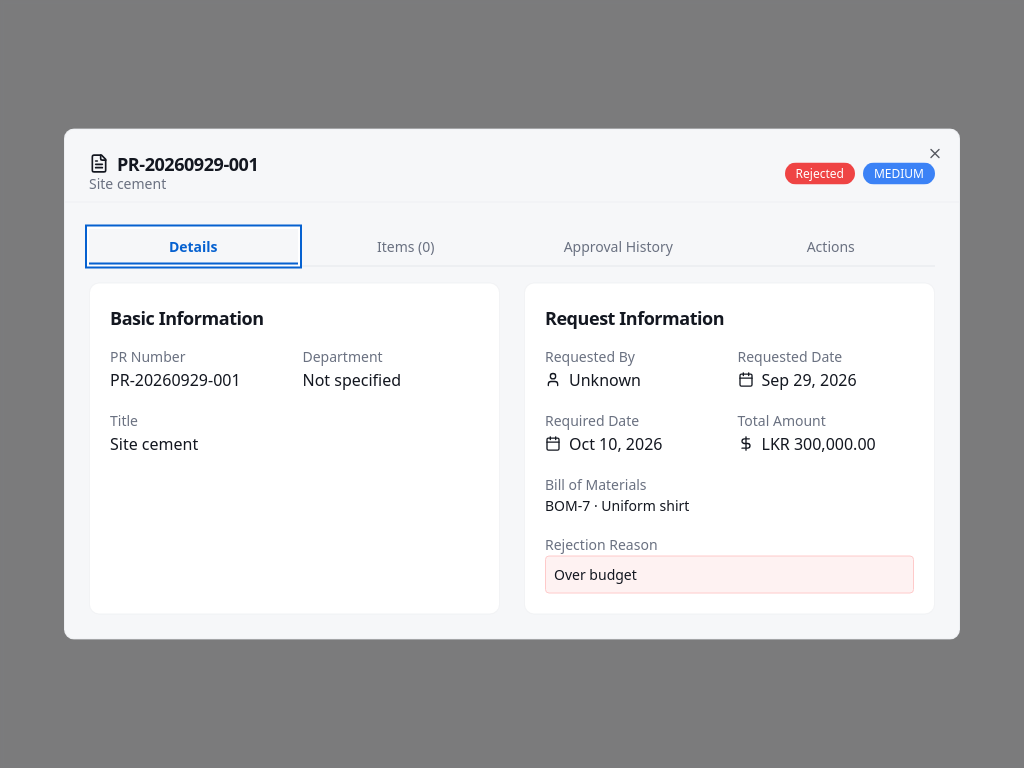
Test: PrDetailsDialog: two approval levels › history lists each approval with its level
Click the tab "Approval History".
click(618, 246)  # box [514,228,722,264]
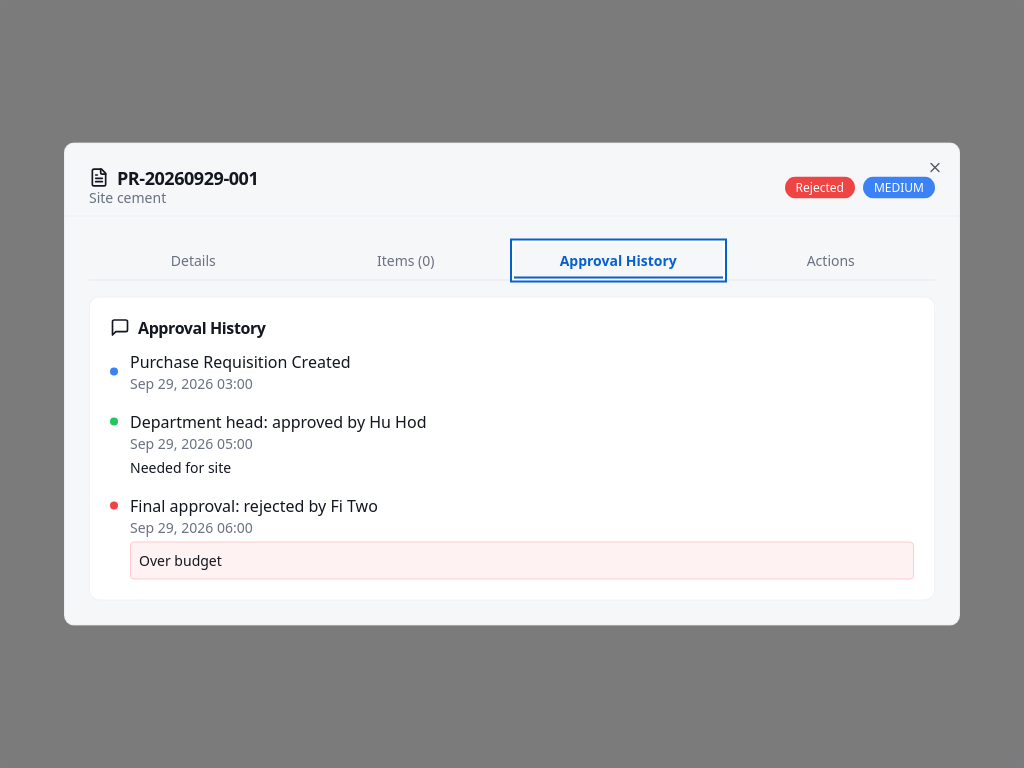
Expected: the text "Department head: approved by Hu Hod" is shown, [130,410,426,432]
Expected: the text "Final approval: rejected by Fi Two" is shown, [130,494,378,516]
Expected: the text "Needed for site" is shown, [130,458,231,476]
